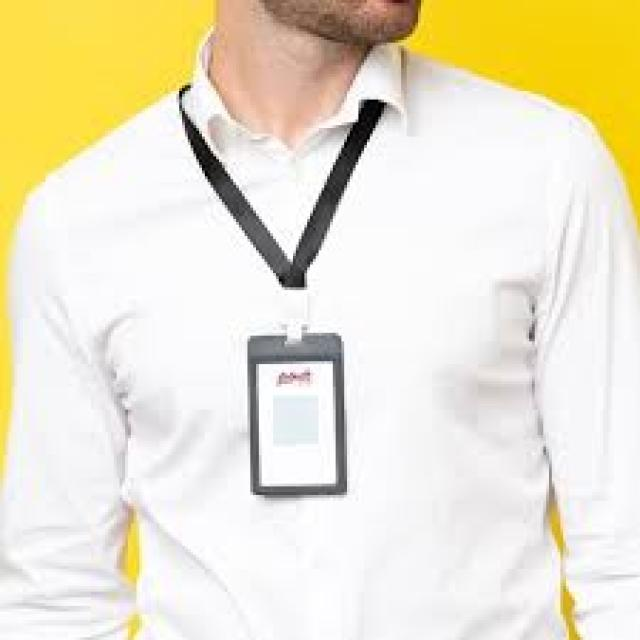id_card: (174, 88, 397, 506)
